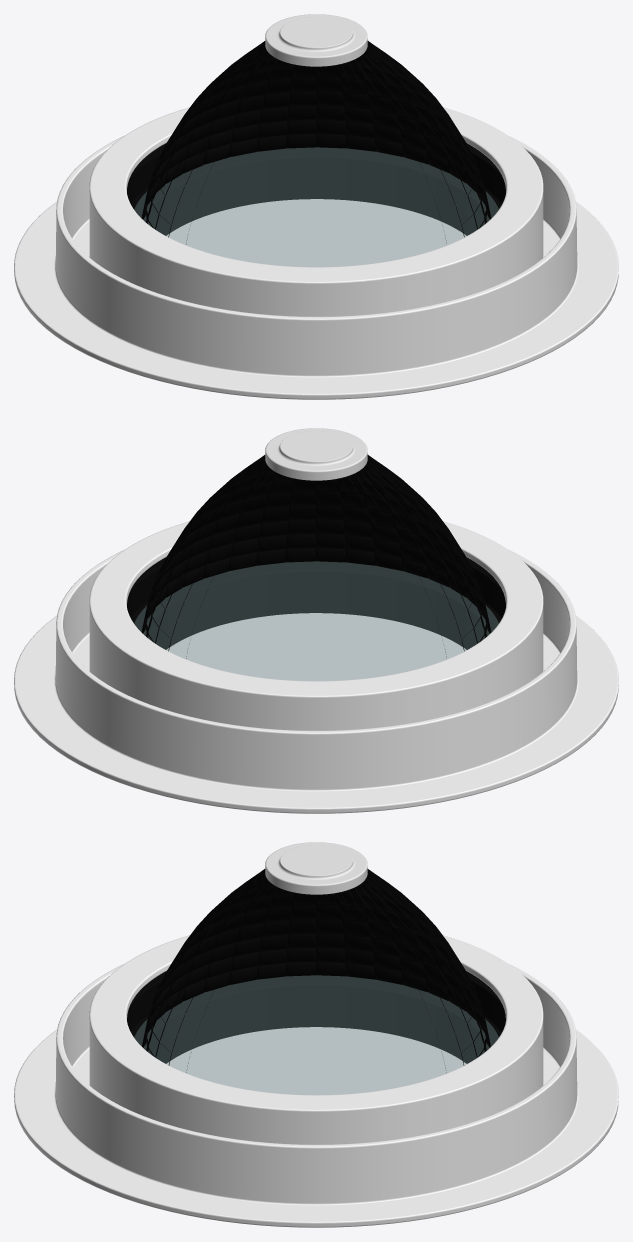
The model's file is AM152_063_Lugstar_Premium_LED.FBX.
The picture shows the model from 3 angles, top to bottom: view 1: azimuth 30°, elevation 25°; view 2: azimuth 150°, elevation 25°; view 3: azimuth 270°, elevation 25°; orthographic projection.
Visible parts, largest first — view 1: AM152_063_34, AM152_063_35, AM152_063_32, AM152_063_31; view 2: AM152_063_34, AM152_063_35, AM152_063_32, AM152_063_31; view 3: AM152_063_34, AM152_063_35, AM152_063_32, AM152_063_31.
Boxes of the visible parts, x1,y1,x2,y2 form: AM152_063_34: (14,107,618,399); AM152_063_35: (141,41,491,244); AM152_063_32: (127,143,505,235); AM152_063_31: (265,14,367,66); AM152_063_34: (14,521,618,813); AM152_063_35: (141,455,491,658); AM152_063_32: (127,557,505,649); AM152_063_31: (265,428,367,480); AM152_063_34: (14,935,618,1227); AM152_063_35: (142,869,490,1072); AM152_063_32: (127,971,505,1063); AM152_063_31: (265,842,367,894).
Size of the model in its own units: 19.21 by 8.41 by 19.21.
